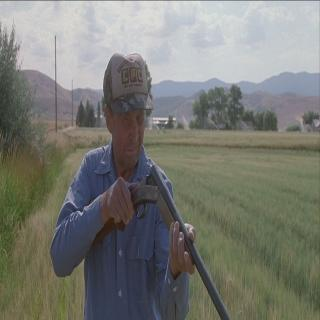gun: (84, 132, 236, 320)
